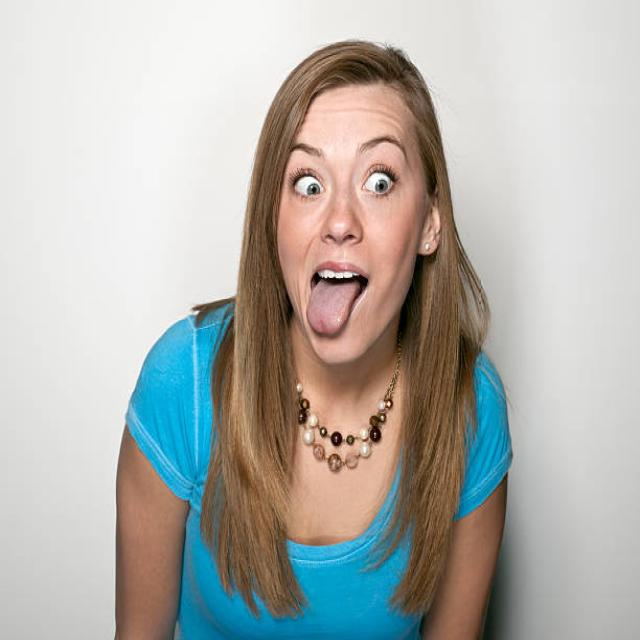tongue: (304, 281, 363, 339)
